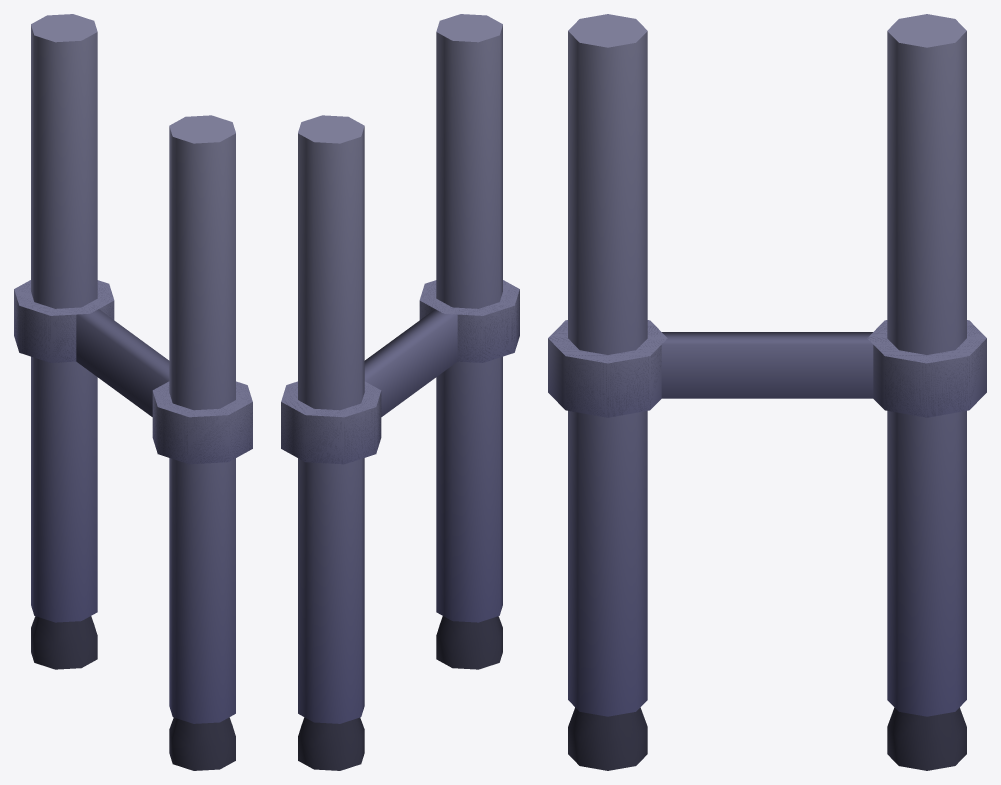
Rendered from structure-tall.glb.
The picture shows the model from 3 angles, left to right: view 1: azimuth 30°, elevation 25°; view 2: azimuth 150°, elevation 25°; view 3: azimuth 270°, elevation 25°; orthographic projection. The views are drawn at different scales.
Visible parts, largest first — view 1: structure-tall; view 2: structure-tall; view 3: structure-tall.
Part boxes in pixels (box(x1,y1,x2,y2)): structure-tall: box(14, 14, 252, 770); structure-tall: box(281, 14, 519, 770); structure-tall: box(548, 14, 986, 770).
Bounding box in the file's own units: 0.3 × 2 × 1.1.
